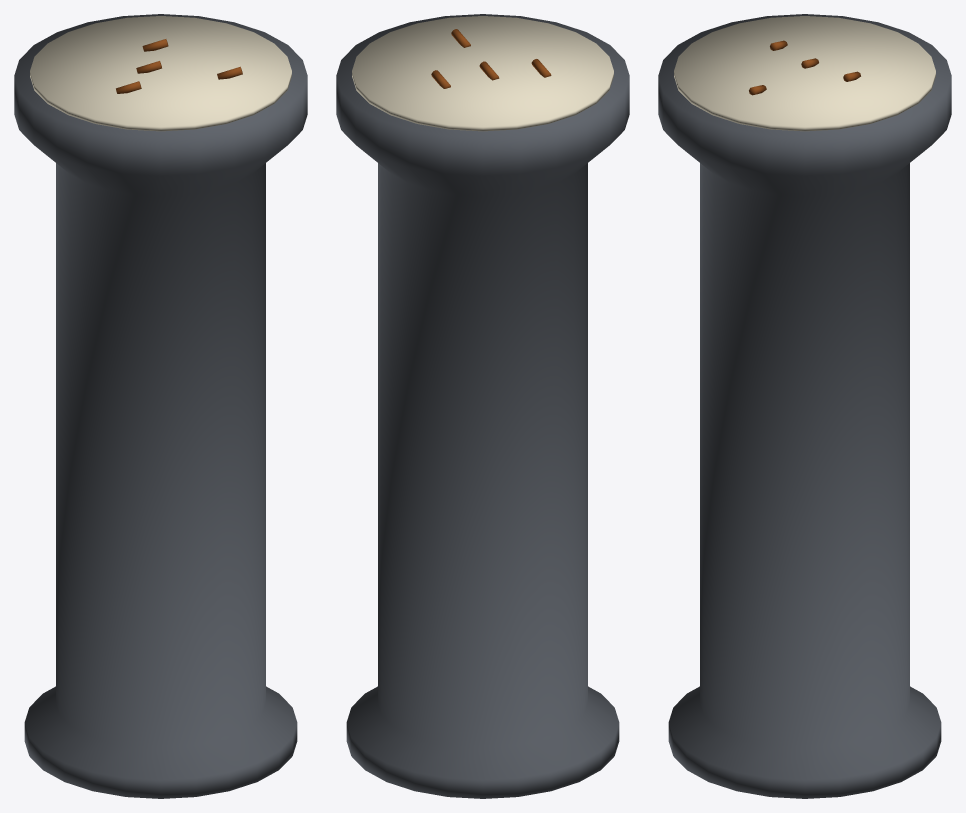
File: smoking.glb
The picture shows the model from 3 angles, left to right: view 1: azimuth 30°, elevation 25°; view 2: azimuth 150°, elevation 25°; view 3: azimuth 270°, elevation 25°; orthographic projection.
Parts seen in each view (by area): view 1: Bin, Sand, Butts; view 2: Bin, Sand, Butts; view 3: Bin, Sand, Butts.
Boxes of the visible parts, x1,y1,x2,y2 form: Bin: (14,14,307,798); Sand: (30,16,291,131); Butts: (116,39,242,93); Bin: (336,14,629,798); Sand: (352,16,613,131); Butts: (431,29,551,88); Bin: (658,14,951,798); Sand: (674,16,935,131); Butts: (749,40,860,95).
Bounding box in the file's own units: 0.28 × 0.7158 × 0.28.
